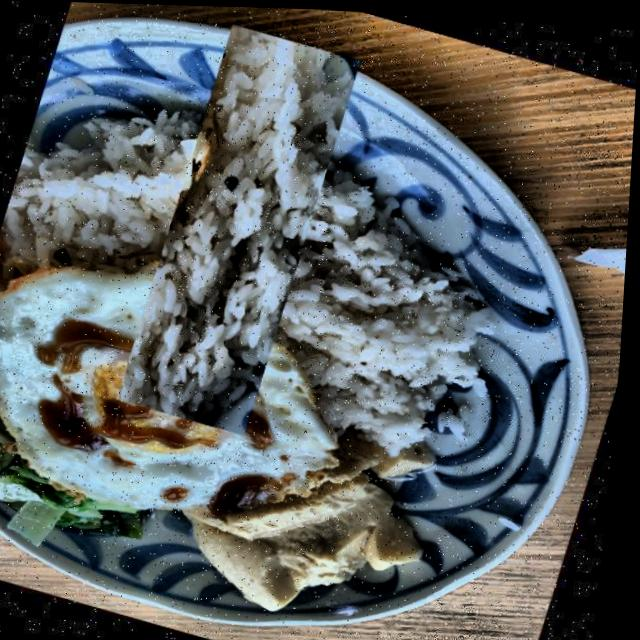Food: (0, 230, 375, 560), (73, 63, 410, 393)
